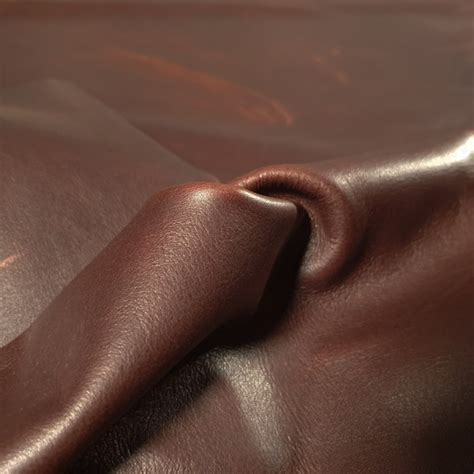cuero: (2, 1, 474, 474)
